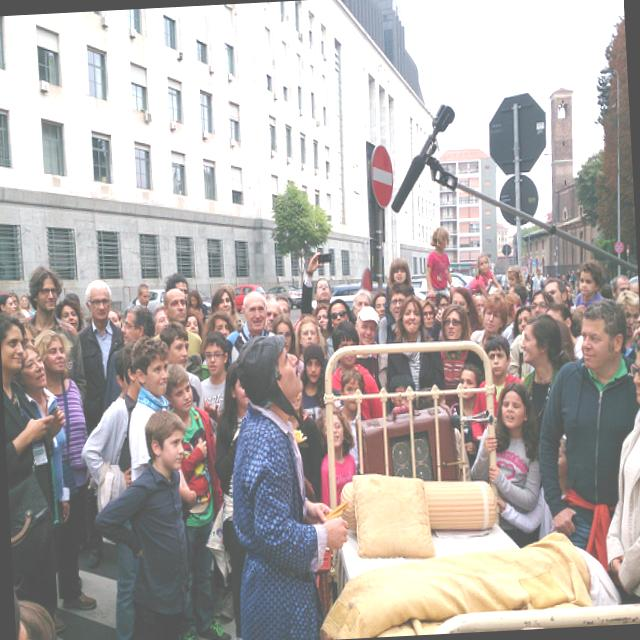Vehicle: (312, 282, 362, 311), (234, 284, 268, 312), (266, 284, 304, 308), (410, 273, 430, 302), (146, 288, 167, 312), (449, 272, 467, 288), (462, 274, 474, 282)
